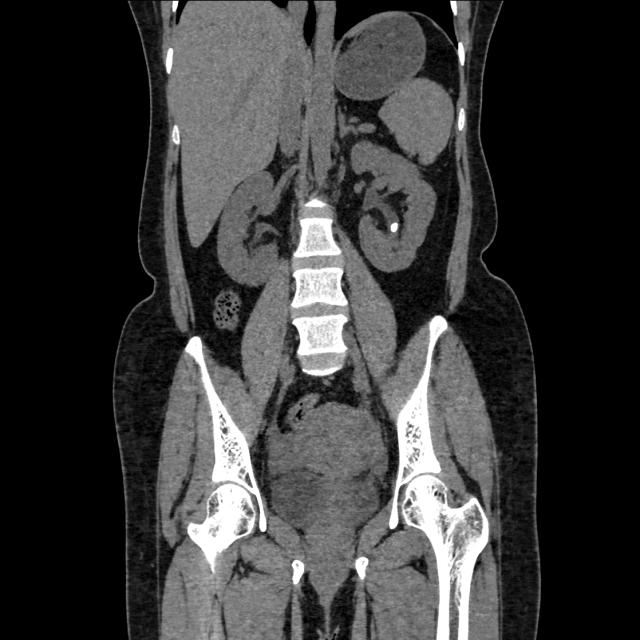kidney: (360, 143, 431, 269), (229, 180, 288, 281)
stone: (390, 223, 398, 232)
